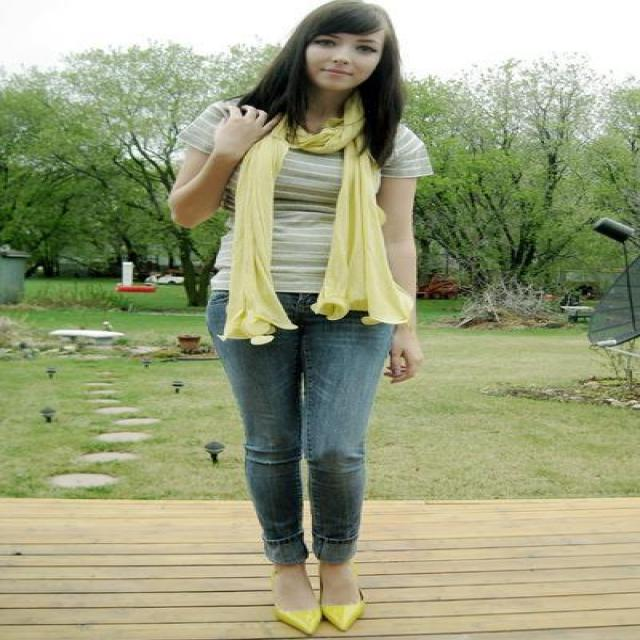pants: (178, 292, 396, 569)
shirt: (176, 100, 432, 297)
shoe: (276, 594, 318, 626)
